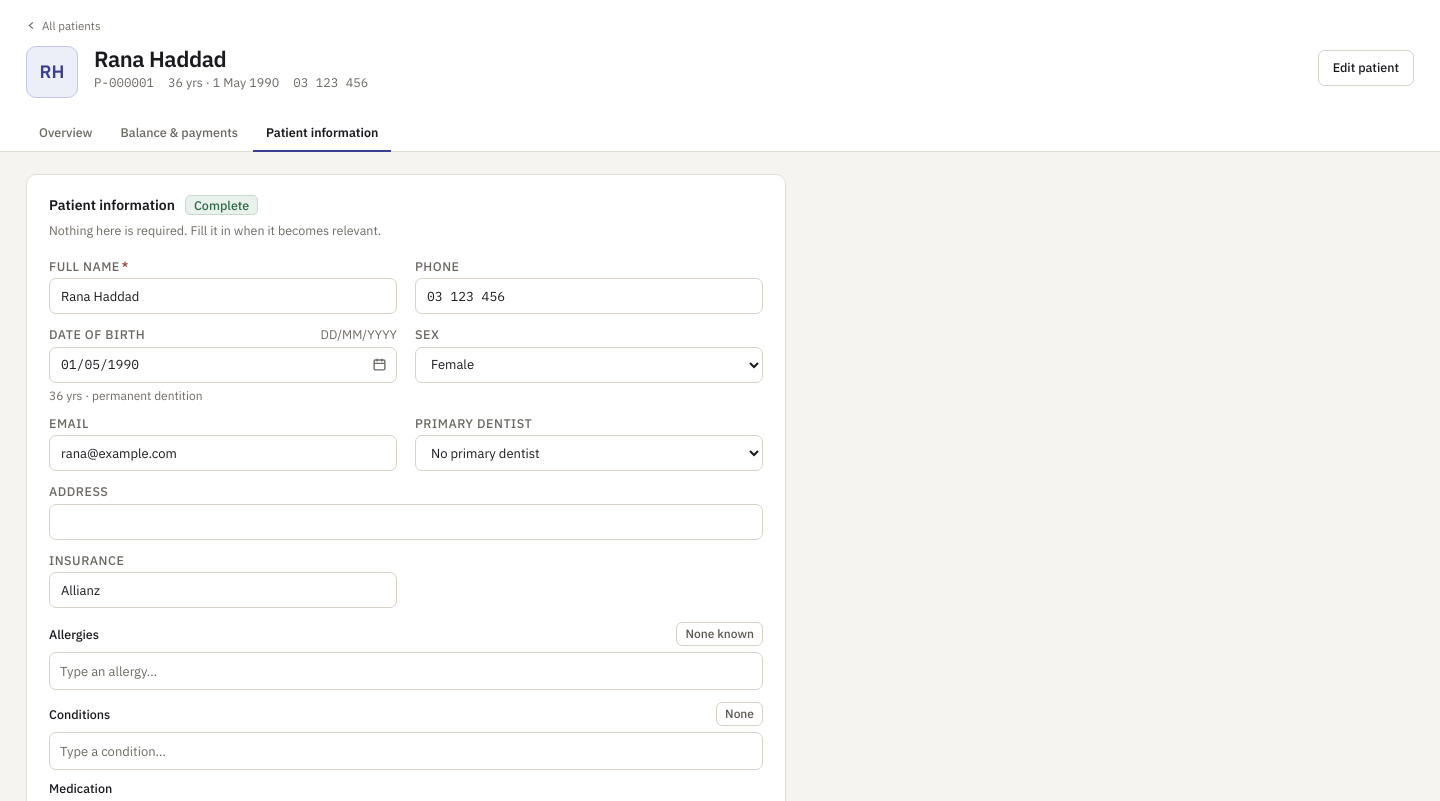
Scenario: InformationTab › follows a refetched record while clean, but keeps what is typed while dirty
The image size is (1440, 801).
Expected: the text "Nothing here is required. Fill it in when it becomes relevant." is shown, [49,222,381,238]
Expected: the field labelled "Insurance" holds "Allianz", [49,572,397,608]
Type "12 Hamra St" into the field labelled "Address" at [406, 522], box [49,504,763,540]
(page scrolled)
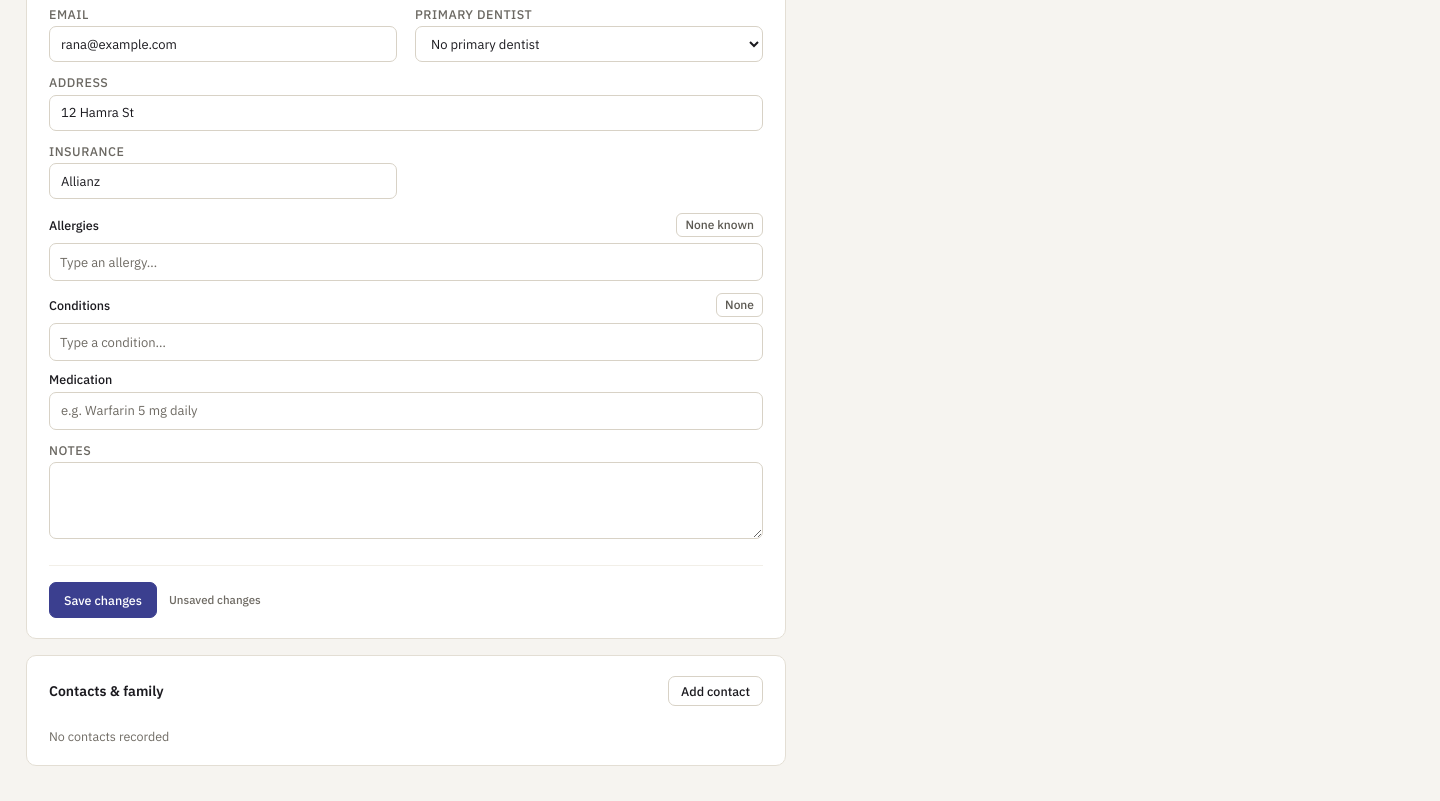
Expected: the field labelled "Insurance" holds "Allianz", [49,163,397,199]
Result: the text "Unsaved changes" is shown at [169,594,261,606]
